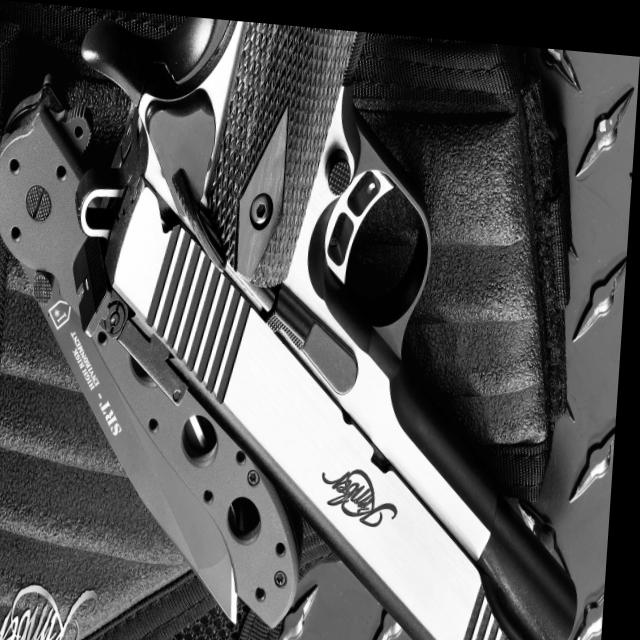handgun: (53, 6, 613, 640)
